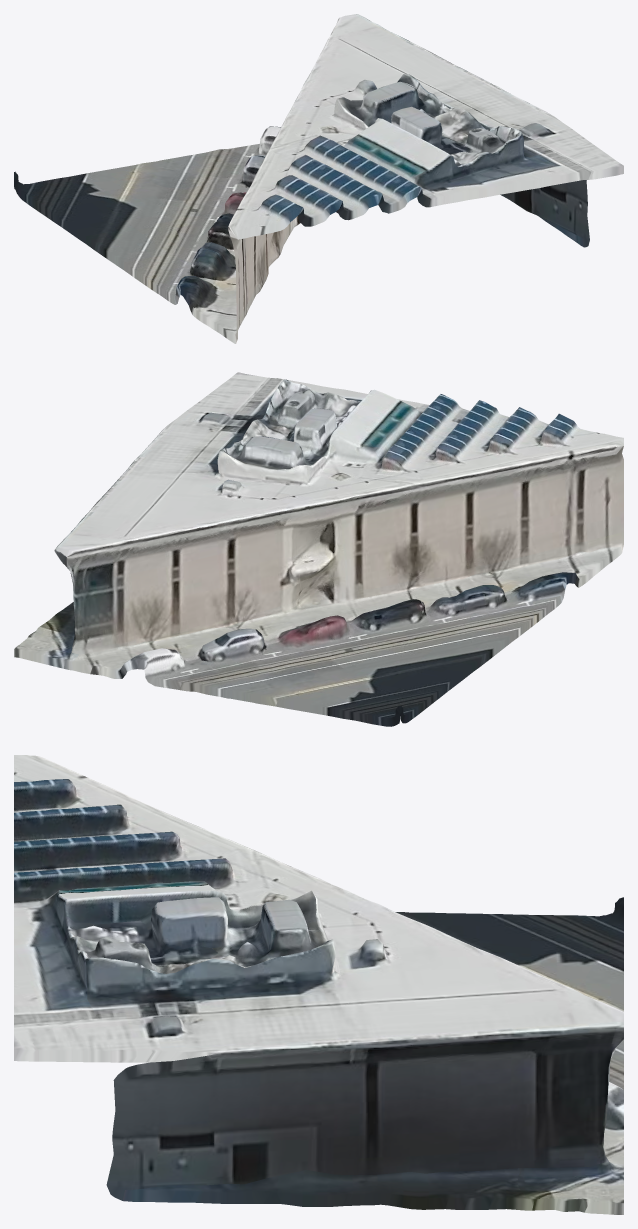
The model's file is z20-167733-405194-h0-yup-uvflip-v3-world.glb.
The picture shows the model from 3 angles, top to bottom: view 1: azimuth 30°, elevation 25°; view 2: azimuth 150°, elevation 25°; view 3: azimuth 270°, elevation 25°; orthographic projection. The views are drawn at different scales.
Size of the model in its own units: 30.16 by 11.8 by 30.32.
Materials: 1 (1 with a texture image).
